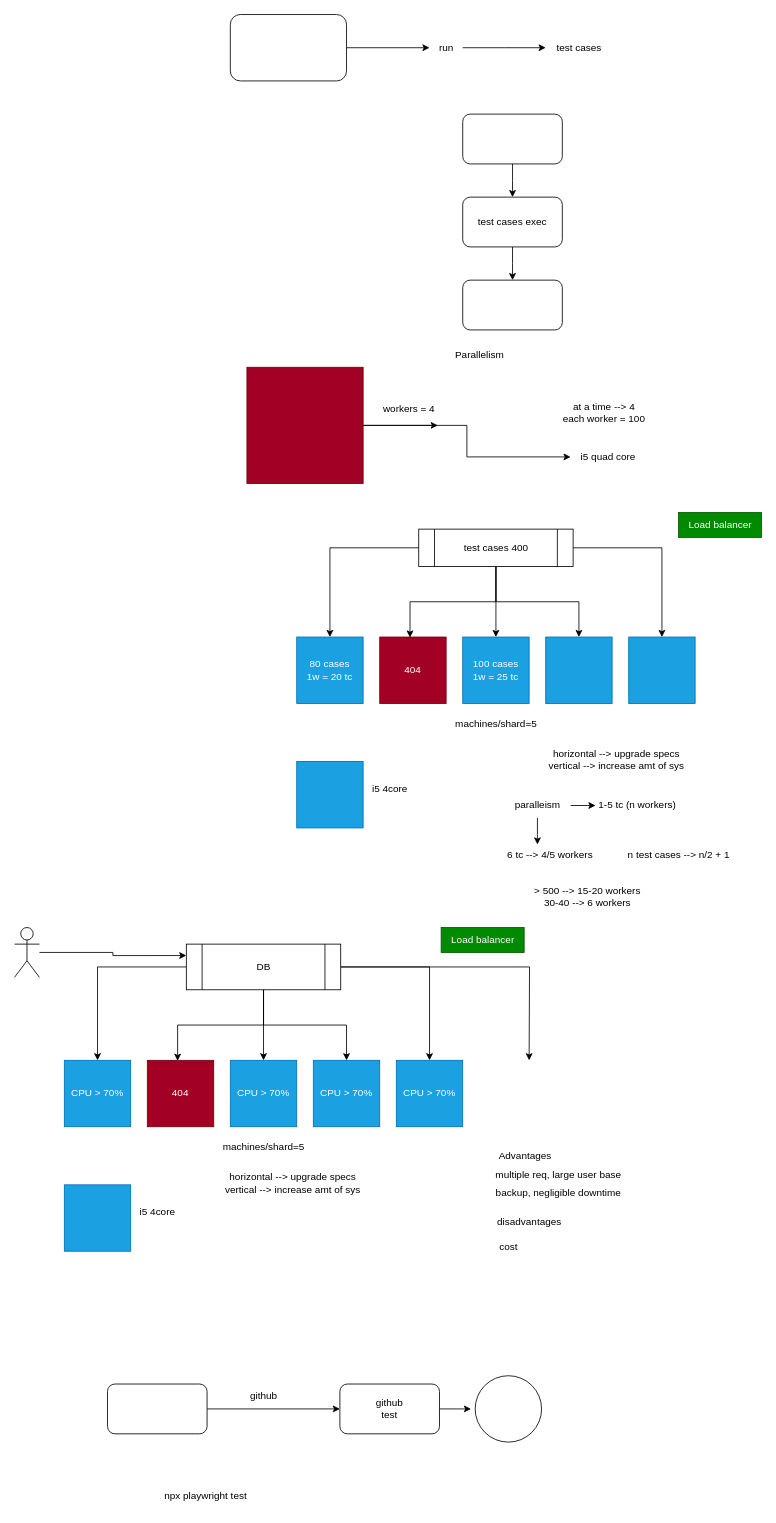
Some shapes in this 776 by 1523 pixel diagram are drawn without their labels. Each missing label, with the box of its shape:
Actor: (14, 927, 39, 977)
Code: (107, 1383, 207, 1434)
localhost:3000/hello: (462, 279, 562, 330)
report: (474, 1375, 542, 1442)
test case 400: (246, 366, 363, 483)
web server 3000: (462, 113, 562, 164)
webapp: (229, 14, 347, 81)
